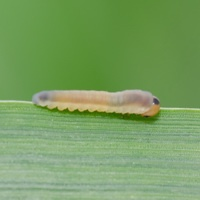insect: (32, 90, 159, 116)
